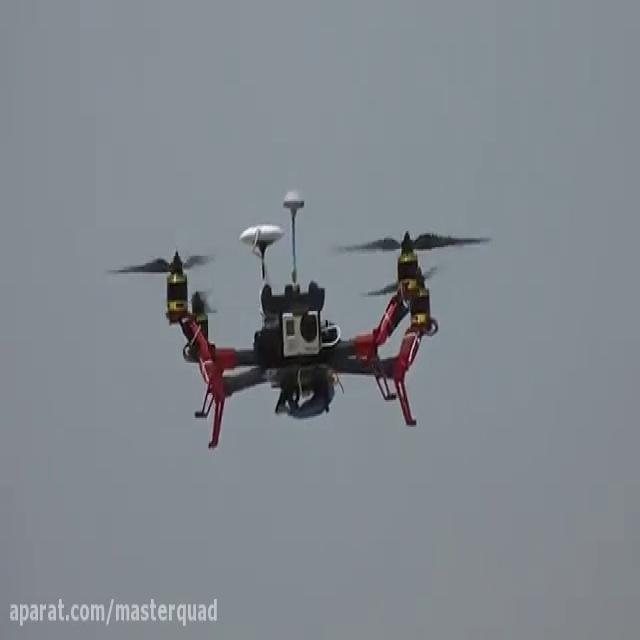drone: (100, 179, 495, 457)
